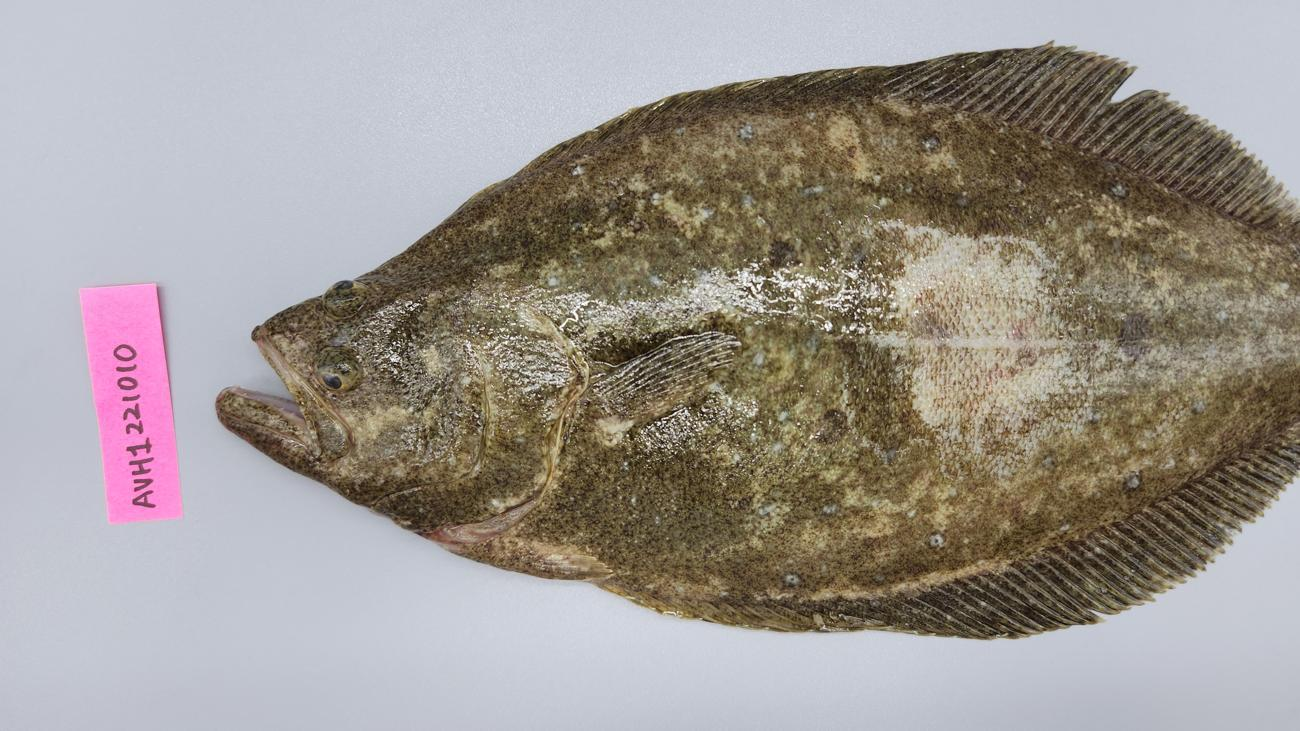VIDYU: (841, 211, 1298, 508)
